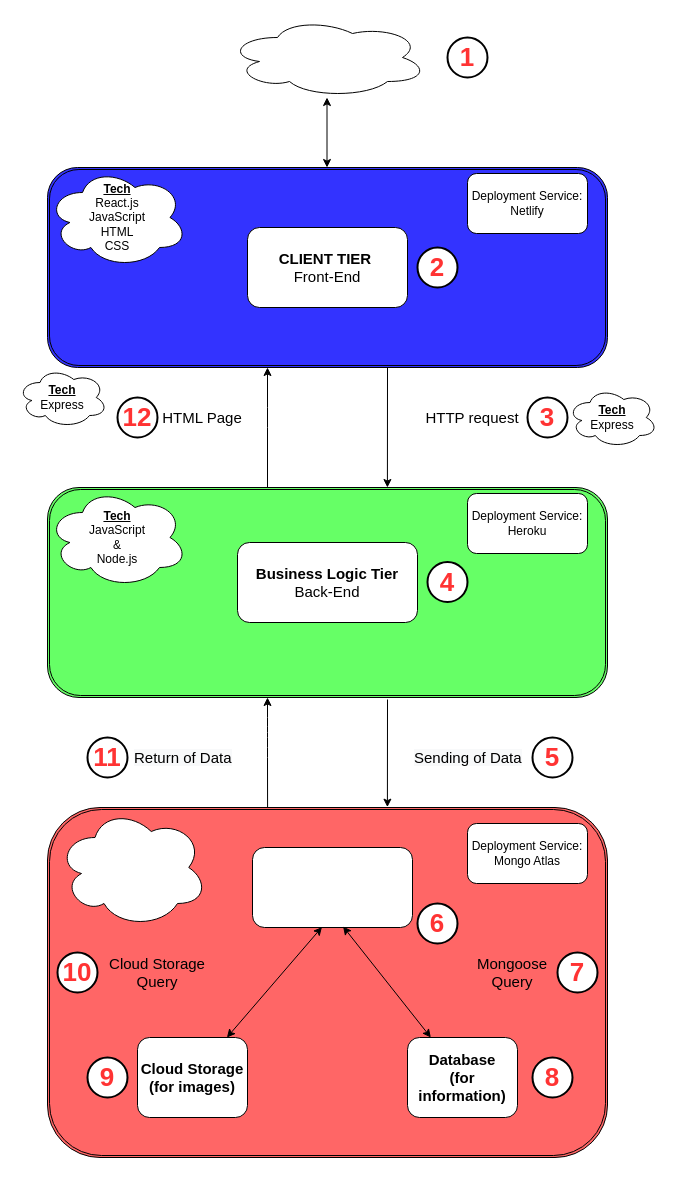
The diagram is 675 pixels wide and 1184 high, and some of its shapes have lost their labels. Each missing label, with the box of its shape:
Database Tier (the Model): (252, 846, 412, 928)
Tech Mongoose MongoDB Cloudinary (external storage): (56, 806, 208, 928)
USER - via web-broswer: (226, 16, 428, 98)
